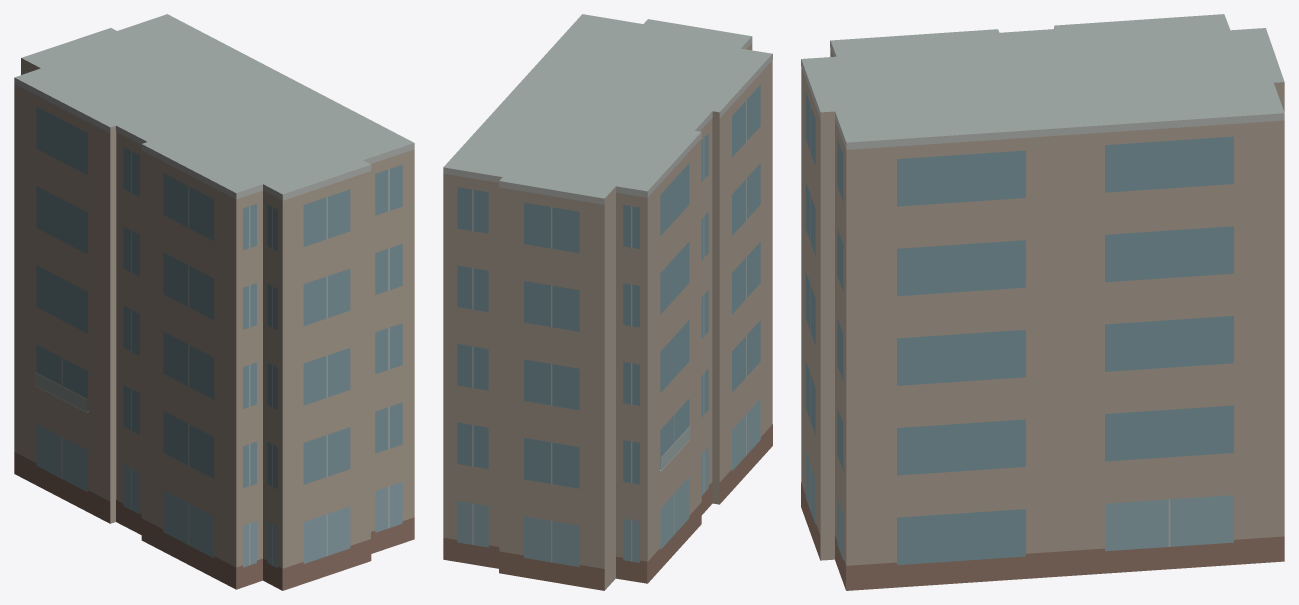
The model's file is survey-upis-32752587.glb.
3 renders of one model, left to right at view 1: azimuth 30°, elevation 25°; view 2: azimuth 150°, elevation 25°; view 3: azimuth 270°, elevation 25°, orthographic. The views are drawn at different scales.
Parts seen in each view (by area): view 1: survey-upis-32752587.tmp; view 2: survey-upis-32752587.tmp; view 3: survey-upis-32752587.tmp.
Boxes of the visible parts, x1,y1,x2,y2 form: survey-upis-32752587.tmp: (14, 14, 414, 590); survey-upis-32752587.tmp: (443, 14, 772, 590); survey-upis-32752587.tmp: (801, 14, 1284, 590).
Bounding box in the file's own units: 9.37 × 15.2 × 14.87.
